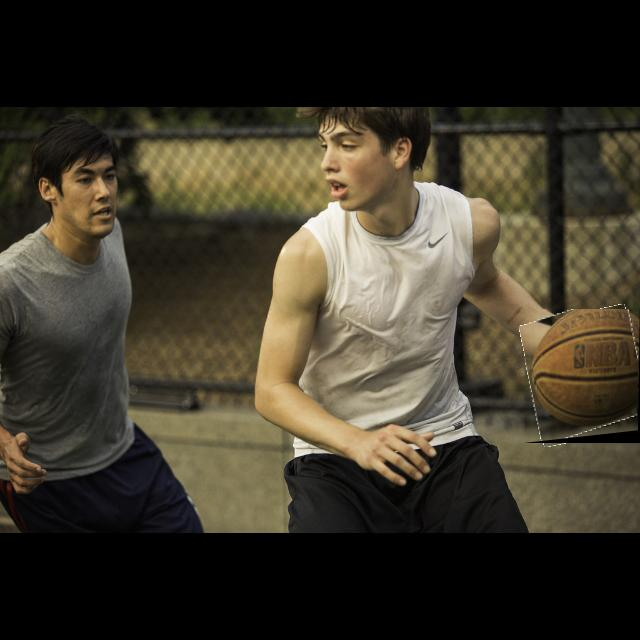Football: (525, 309, 640, 443)
